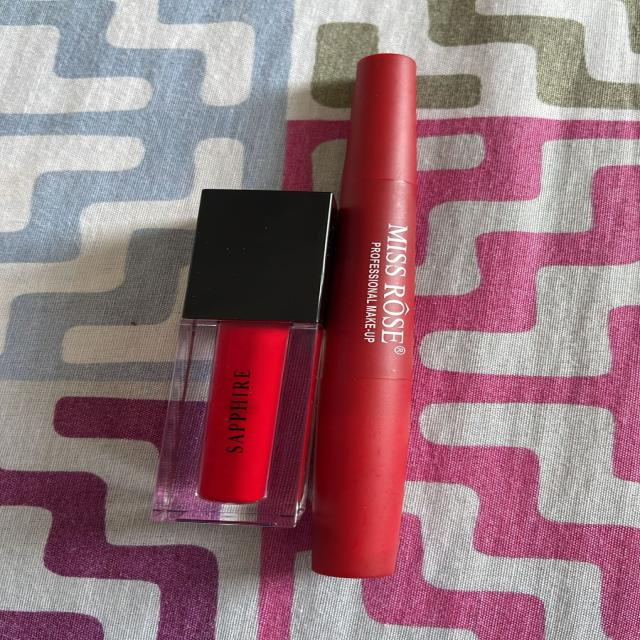lip gloss: (136, 162, 347, 550)
lip liner: (302, 37, 449, 594)
